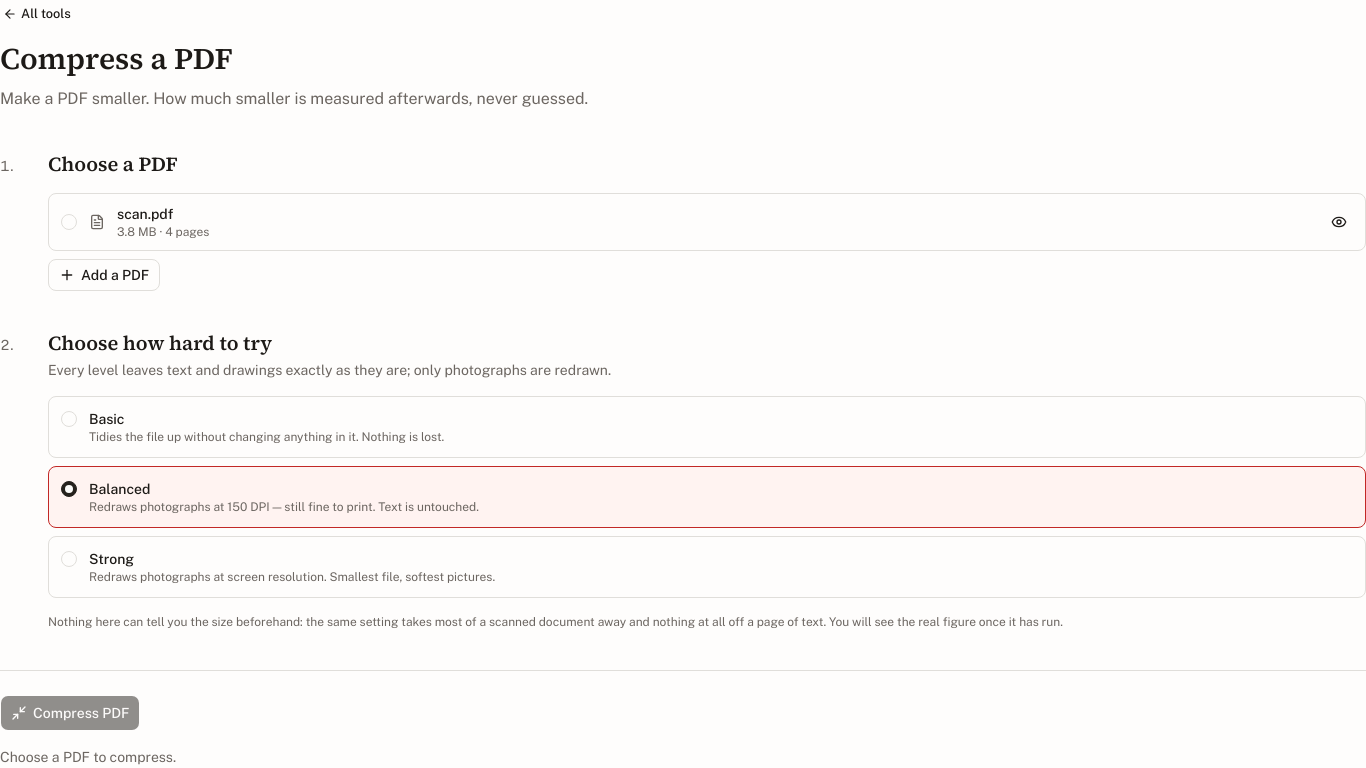
it: CompressPage › reports the measured sizes after a run
Click the radio button named "scan.pdf" next to "scan.pdf" at [69, 222], box x1=61 y1=214 x2=77 y2=230
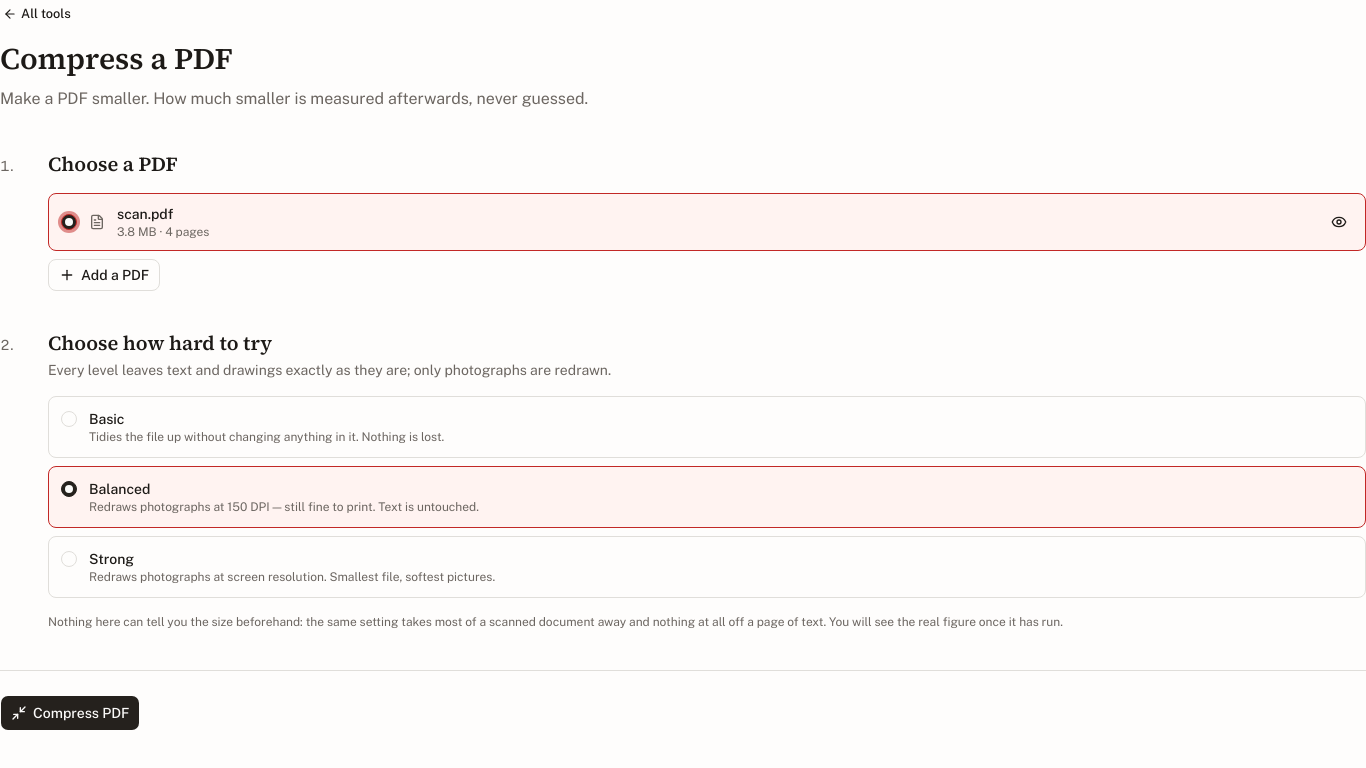
Click the button "Compress PDF" at [70, 712], box x1=0 y1=694 x2=140 y2=730
(page scrolled)
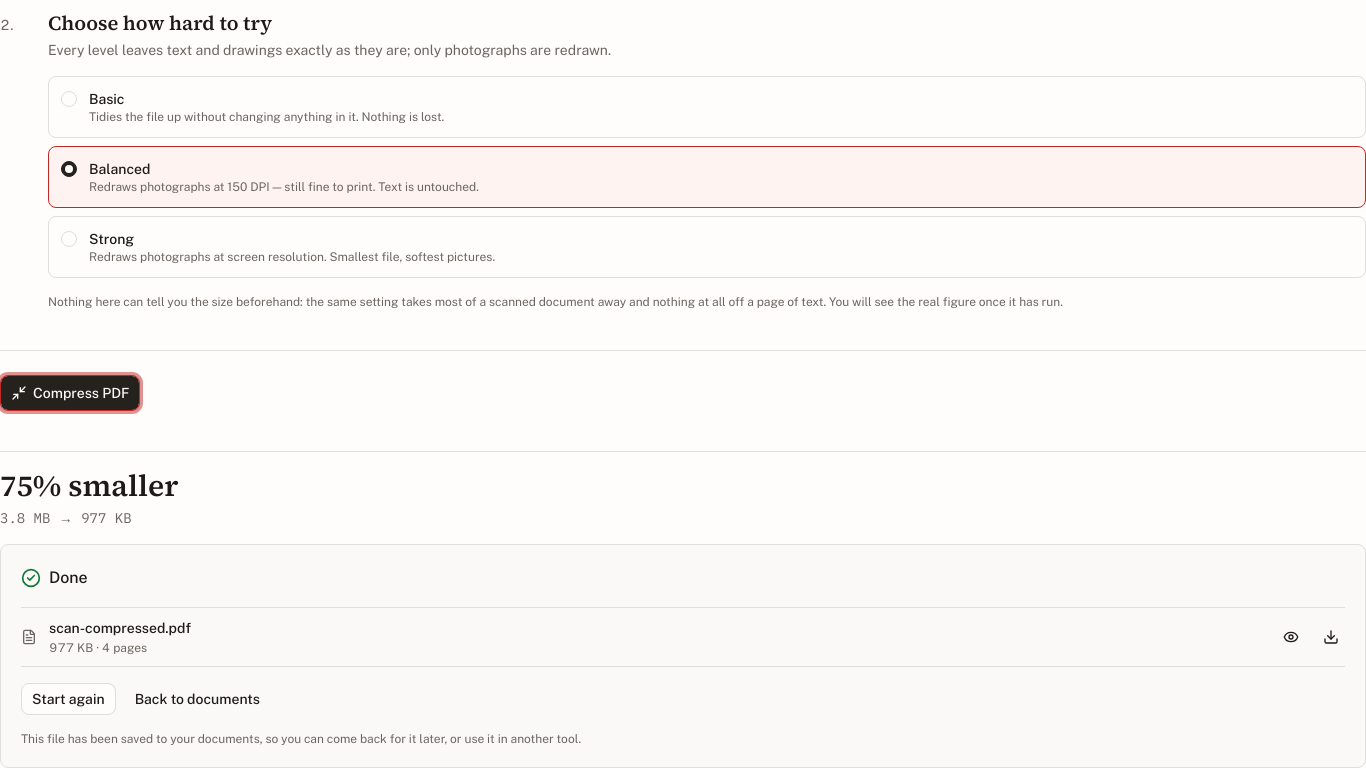
Result: the text "75% smaller" is shown at x1=0 y1=464 x2=179 y2=506
Result: the text "3.8 MB → 977 KB" is shown at x1=0 y1=508 x2=132 y2=526
